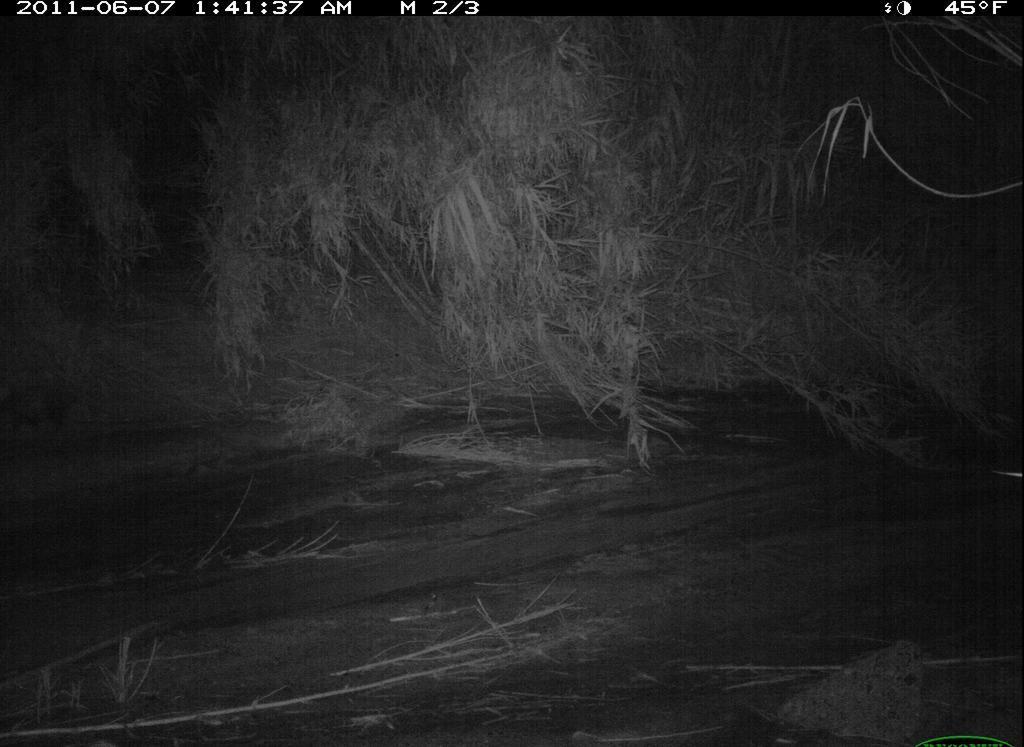opossum: (6, 372, 90, 440)
